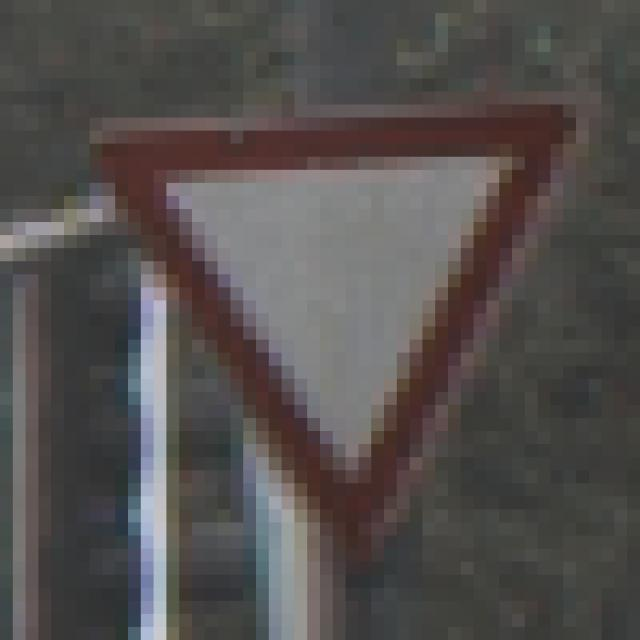Give Way: (65, 79, 577, 576)
